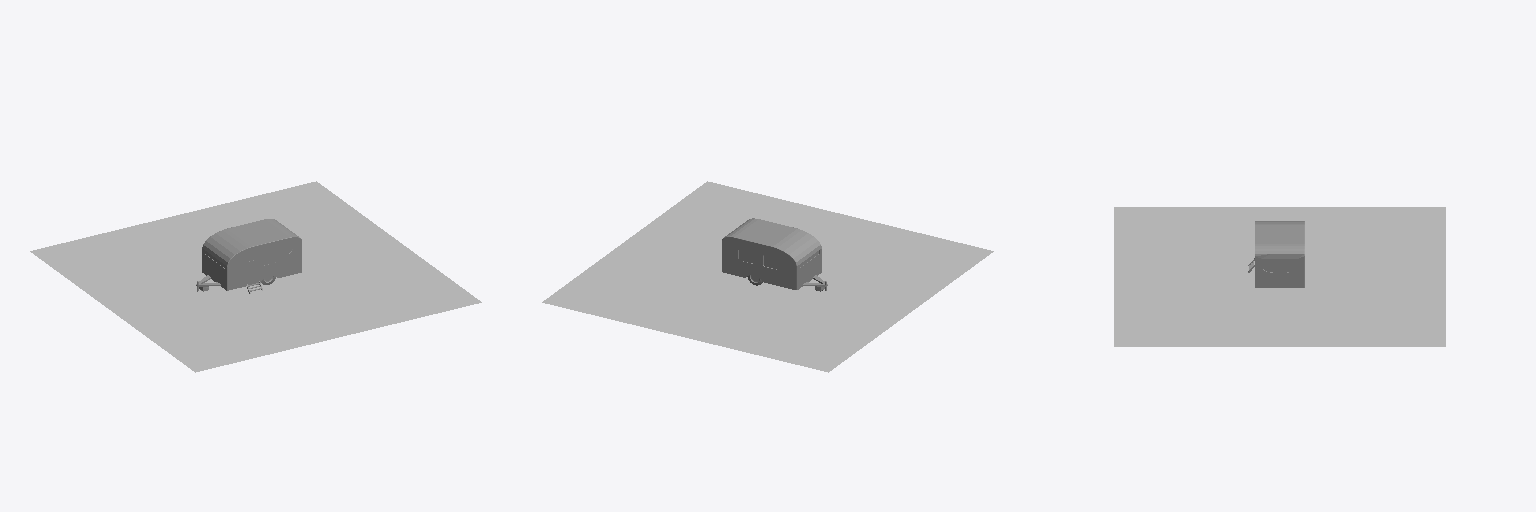
File: old_trailer_obj.obj
3 renders of one model, left to right at view 1: azimuth 30°, elevation 25°; view 2: azimuth 150°, elevation 25°; view 3: azimuth 270°, elevation 25°, orthographic.
Visible parts, largest first — view 1: ground_Plane.001, top_and_stairs_Circle.006, trailer_sides_Circle.004; view 2: ground_Plane.001, top_and_stairs_Circle.006, trailer_sides_Circle.004; view 3: ground_Plane.001, top_and_stairs_Circle.006.
Boxes of the visible parts, x1,y1,x2,y2 form: ground_Plane.001: [30, 181, 481, 372]; top_and_stairs_Circle.006: [202, 219, 298, 293]; trailer_sides_Circle.004: [227, 237, 301, 290]; ground_Plane.001: [542, 181, 993, 372]; top_and_stairs_Circle.006: [725, 218, 821, 289]; trailer_sides_Circle.004: [722, 237, 796, 289]; ground_Plane.001: [1114, 207, 1445, 346]; top_and_stairs_Circle.006: [1248, 221, 1304, 287].
Bounding box in the file's own units: 126 × 18.83 × 126.